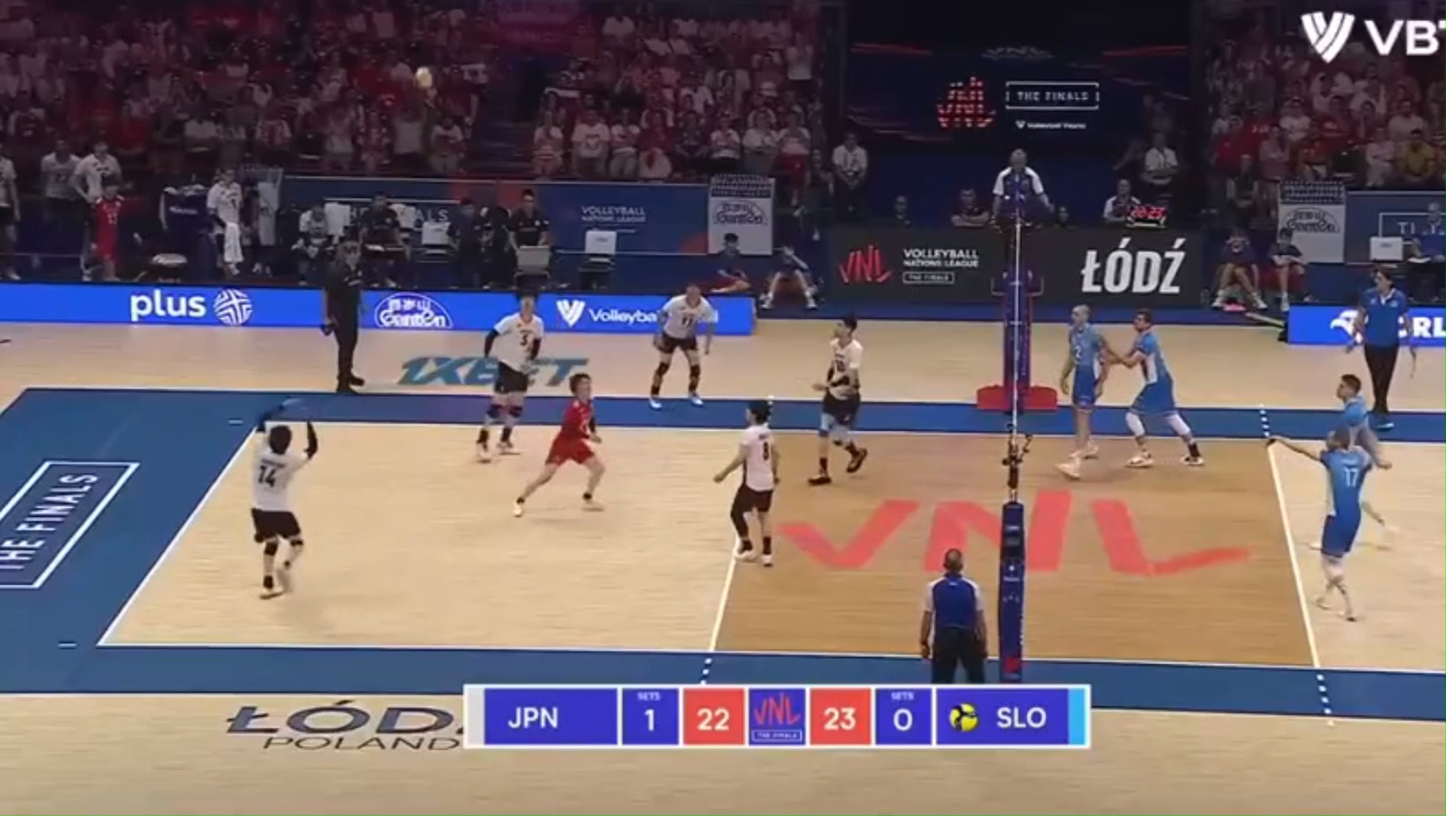ball: (414, 66, 434, 90)
player: (1267, 425, 1375, 620), (1112, 310, 1202, 468), (1058, 304, 1108, 478), (1337, 374, 1389, 468), (1363, 502, 1386, 528)
player 1: (513, 372, 605, 515), (250, 414, 318, 598), (476, 294, 545, 461), (714, 400, 777, 566), (808, 317, 868, 485), (649, 283, 717, 407)
referee: (991, 150, 1052, 311), (1351, 267, 1409, 430), (920, 549, 987, 684), (322, 240, 366, 393)
